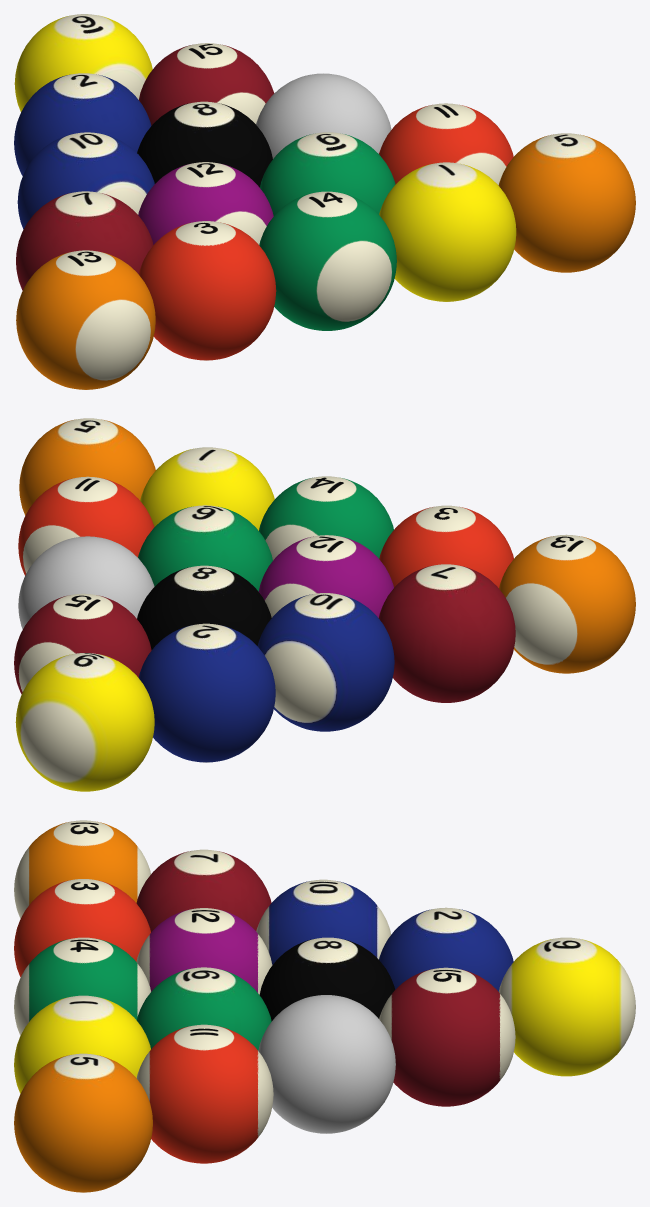
File: BilliardBalls.FBX
3 views of the same model, one above another, from view 1: azimuth 30°, elevation 25°; view 2: azimuth 150°, elevation 25°; view 3: azimuth 270°, elevation 25° (orthographic).
Visible parts, largest first — view 1: BilliardBalls; view 2: BilliardBalls; view 3: BilliardBalls.
Part boxes in pixels (left/top/right/bottom): BilliardBalls: left=14, top=14, right=635, bottom=389; BilliardBalls: left=14, top=418, right=635, bottom=791; BilliardBalls: left=14, top=820, right=635, bottom=1192.
Size of the model in its own units: 97.81 by 88.03 by 19.69.
